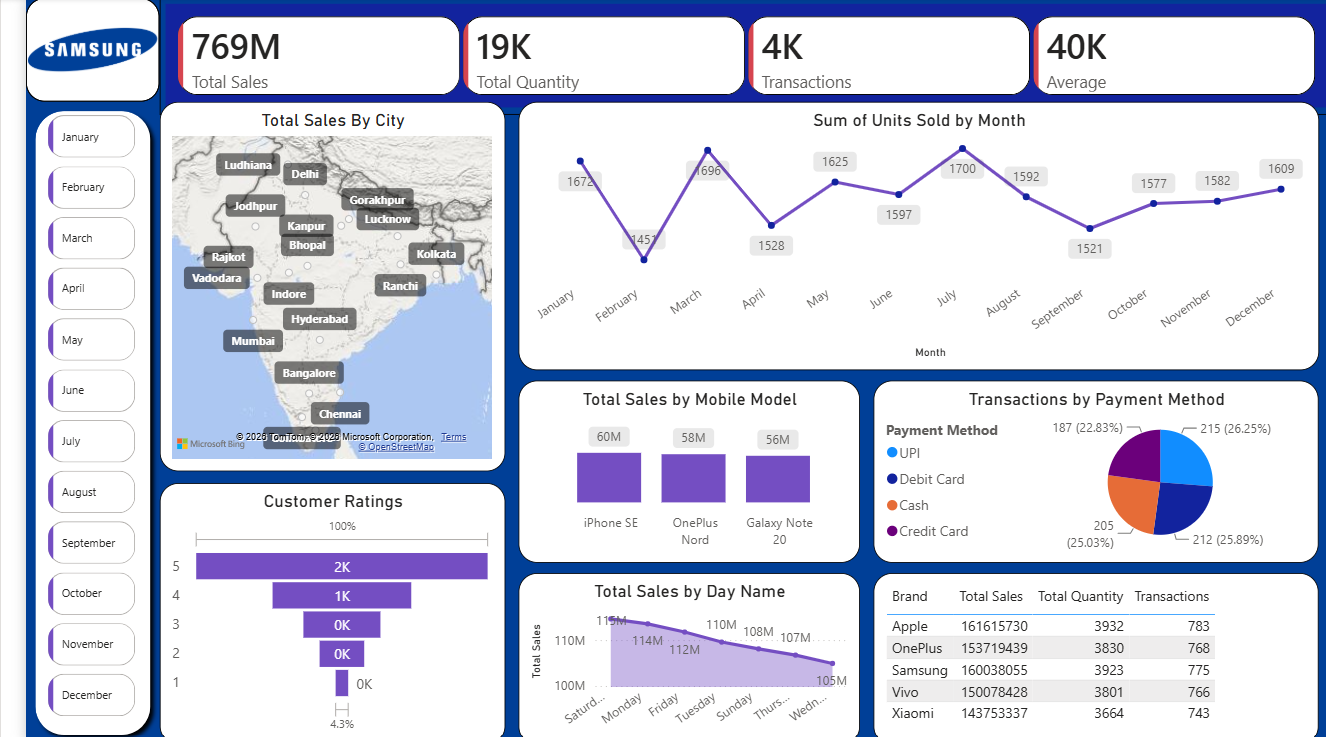

The page's visual inventory and layout, read from the dashboard file:
{"tool":"powerbi","page":{"name":"Page 1","canvas":[1280,720],"ordinal":0},"visuals":[{"type":"shape","box":[0,0,129,100.2],"z":0},{"type":"image","box":[0,0,129,100.2],"z":1000},{"type":"shape","box":[0,100.2,129,620.2],"z":2000},{"type":"advancedSlicerVisual","fields":{"Values":["Sales_Data_Project.Date.Variation.Date Hierarchy.Month"]},"box":[20.6,112.5,86.4,588.7],"z":3000},{"type":"cardVisual","fields":{"Data":["Sales_Data_Project.Total Sales","Sales_Data_Project.Total Quantity","Sales_Data_Project.Transactions","Sales_Data_Project.Average"]},"box":[129,0,1136.2,112.5],"z":4000},{"type":"map","title":"Total Sales By City","fields":{"Category":["Sales_Data_Project.City"]},"box":[129,100.2,333.4,356.8],"z":5000},{"type":"lineChart","fields":{"Y":["Sum(Sales_Data_Project.Units Sold)"],"Category":["Sales_Data_Project.Date.Variation.Date Hierarchy.Month","Sales_Data_Project.Date.Variation.Date Hierarchy.Day"]},"box":[474.8,100.2,772.6,259.3],"z":6000},{"type":"columnChart","fields":{"Category":["Sales_Data_Project.Mobile Model"],"Y":["Sales_Data_Project.Total Sales"]},"box":[474.8,369.1,329.3,175.6],"z":7000},{"type":"pieChart","fields":{"Y":["Sales_Data_Project.Transactions"],"Category":["Sales_Data_Project.Payment Method"]},"box":[817.8,369.1,429.5,175.6],"z":8000},{"type":"funnel","title":"Customer Ratings","fields":{"Category":["Sales_Data_Project.Customer Ratings"],"Y":["Sum(Sales_Data_Project.Customer Ratings)"]},"box":[129,467.9,333.4,252.5],"z":9000},{"type":"areaChart","fields":{"Category":["Sales_Data_Project.Day Name"],"Y":["Sales_Data_Project.Total Sales"]},"box":[474.8,554.4,329.3,166],"z":10000},{"type":"tableEx","fields":{"Values":["Sales_Data_Project.Brand","Sales_Data_Project.Total Sales","Sales_Data_Project.Total Quantity","Sales_Data_Project.Transactions"]},"box":[817.8,554.4,429.5,166],"z":11000}]}

Visuals, with their boxes in screenshot pixels (x1, y1, x2, y2), scaled from the page's 1280x720 canvas onto the 1326x737 screenshot:
shape: bbox=(0, 0, 134, 103)
image: bbox=(0, 0, 134, 103)
shape: bbox=(0, 103, 134, 736)
advancedSlicerVisual - Sales_Data_Project.Date.Variation.Date Hierarchy.Month: bbox=(21, 115, 111, 718)
cardVisual - Sales_Data_Project.Total Sales x Sales_Data_Project.Total Quantity: bbox=(134, 0, 1311, 115)
"Total Sales By City" map: bbox=(134, 103, 479, 468)
lineChart - Sum(Sales_Data_Project.Units Sold) x Sales_Data_Project.Date.Variation.Date Hierarchy.Month: bbox=(492, 103, 1292, 368)
columnChart - Sales_Data_Project.Mobile Model x Sales_Data_Project.Total Sales: bbox=(492, 378, 833, 558)
pieChart - Sales_Data_Project.Transactions x Sales_Data_Project.Payment Method: bbox=(847, 378, 1292, 558)
"Customer Ratings" funnel: bbox=(134, 479, 479, 736)
areaChart - Sales_Data_Project.Day Name x Sales_Data_Project.Total Sales: bbox=(492, 567, 833, 736)
tableEx - Sales_Data_Project.Brand x Sales_Data_Project.Total Sales: bbox=(847, 567, 1292, 736)
